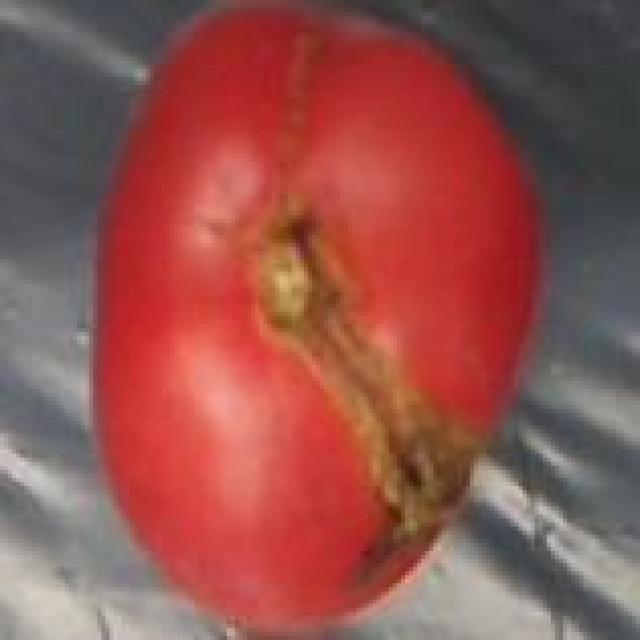overripe tomato: (85, 0, 567, 640)
